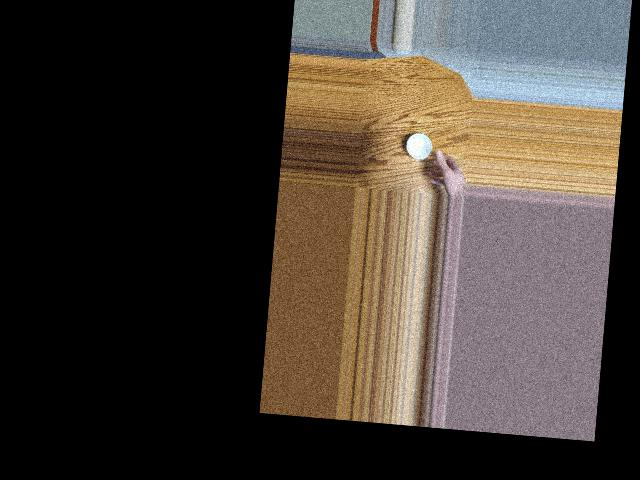cotage: (400, 126, 435, 166)
